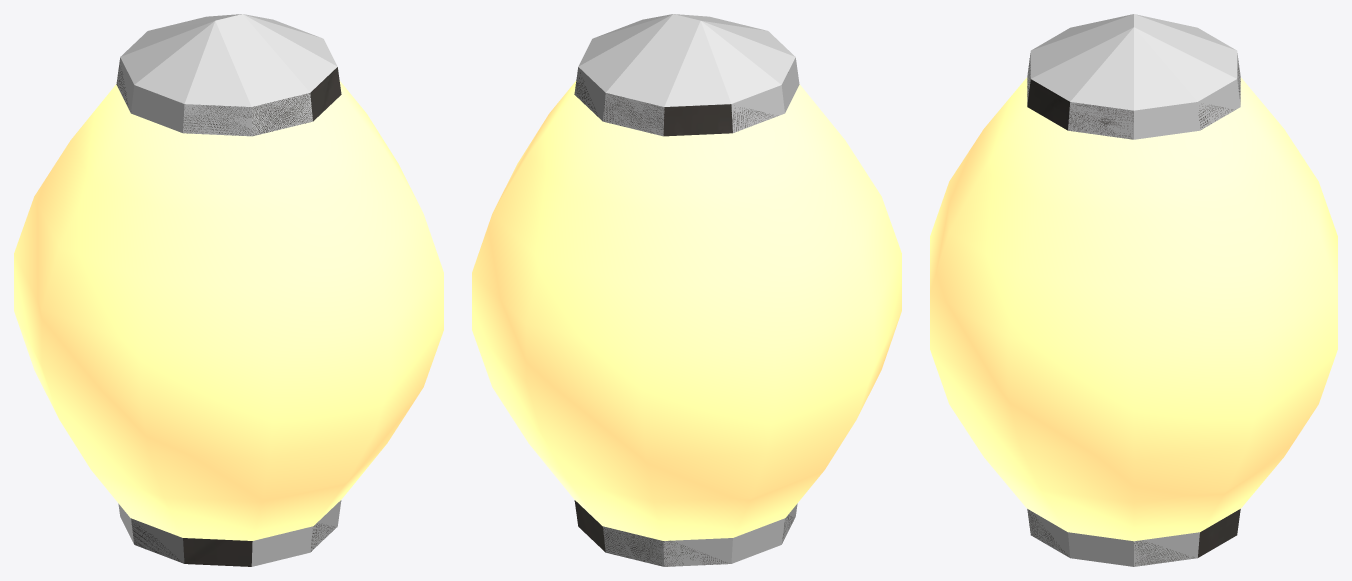
Rendered from lantern_paper.low.webp.glb.
3 renders of one model, left to right at view 1: azimuth 30°, elevation 25°; view 2: azimuth 150°, elevation 25°; view 3: azimuth 270°, elevation 25°, orthographic.
Visible parts, largest first — view 1: LOD1_paper, COL, LOD1_body; view 2: LOD1_paper, COL, LOD1_body; view 3: LOD1_paper, COL, LOD1_body.
Part boxes in pixels (x1,y1,x2,y2): LOD1_paper: (14,81,443,540); COL: (116,14,341,566); LOD1_body: (116,66,341,566); LOD1_paper: (472,81,901,540); COL: (574,14,799,566); LOD1_body: (574,72,793,566); LOD1_paper: (930,77,1337,541); COL: (1027,14,1240,566); LOD1_body: (1027,55,1240,565).
Size of the model in its own units: 0.494 by 0.6362 by 0.4698.
Materials: 2 (1 with a texture image).
